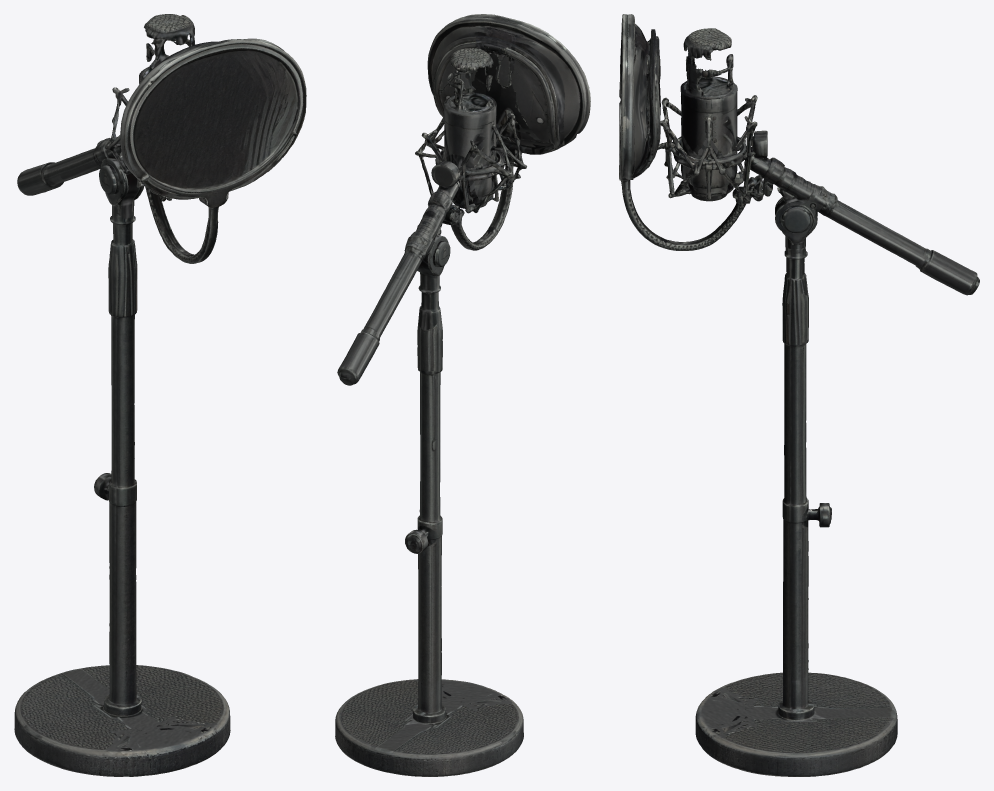
File: StudioMic.glb
3 renders of one model, left to right at view 1: azimuth 30°, elevation 25°; view 2: azimuth 150°, elevation 25°; view 3: azimuth 270°, elevation 25°, orthographic. The views are drawn at different scales.
Parts seen in each view (by area): view 1: texture_mapping; view 2: texture_mapping; view 3: texture_mapping.
Boxes of the visible parts, x1=… form: texture_mapping: x1=14, y1=14, x2=306, y2=776; texture_mapping: x1=335, y1=14, x2=590, y2=776; texture_mapping: x1=619, y1=14, x2=979, y2=776.
Size of the model in its own units: 0.2582 by 1 by 0.4627.
Materials: 1 (1 with a texture image).
